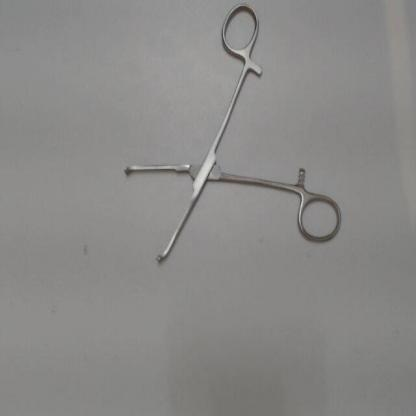Allis Tissue Forceps: (117, 1, 347, 272)
